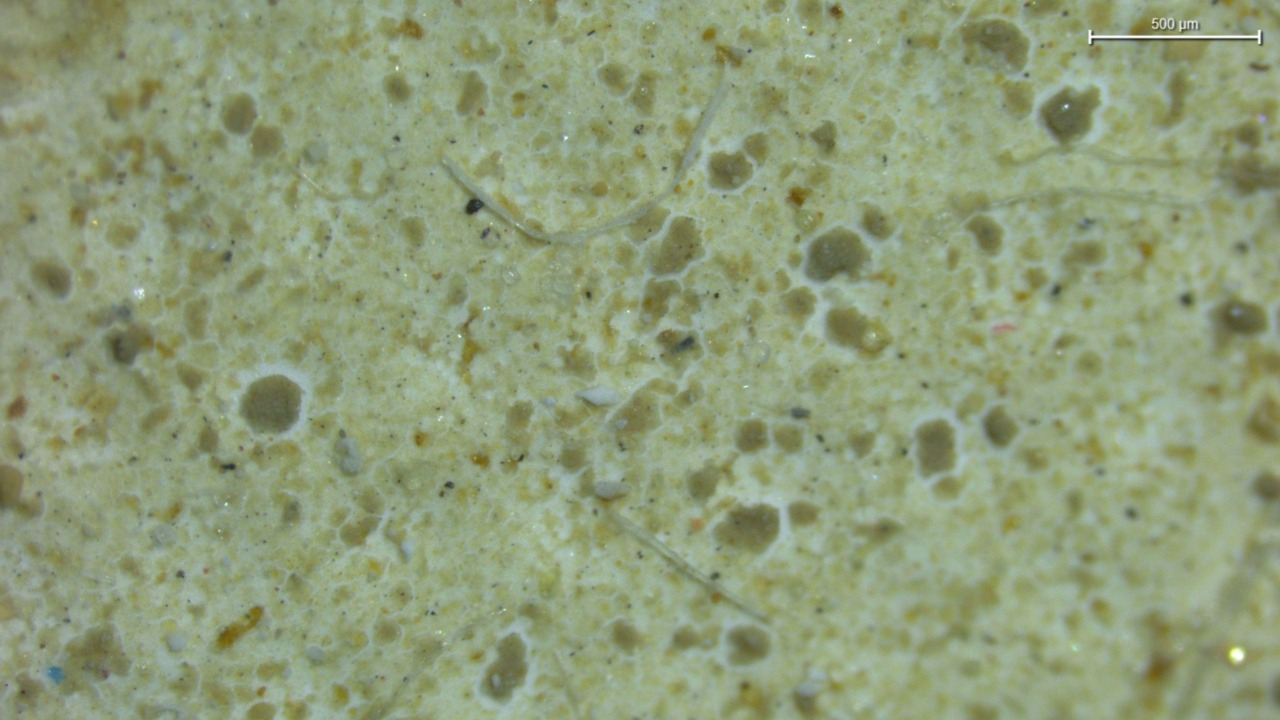microplastic_fragment: (336, 430, 362, 474), (578, 386, 619, 405), (594, 481, 627, 499)
